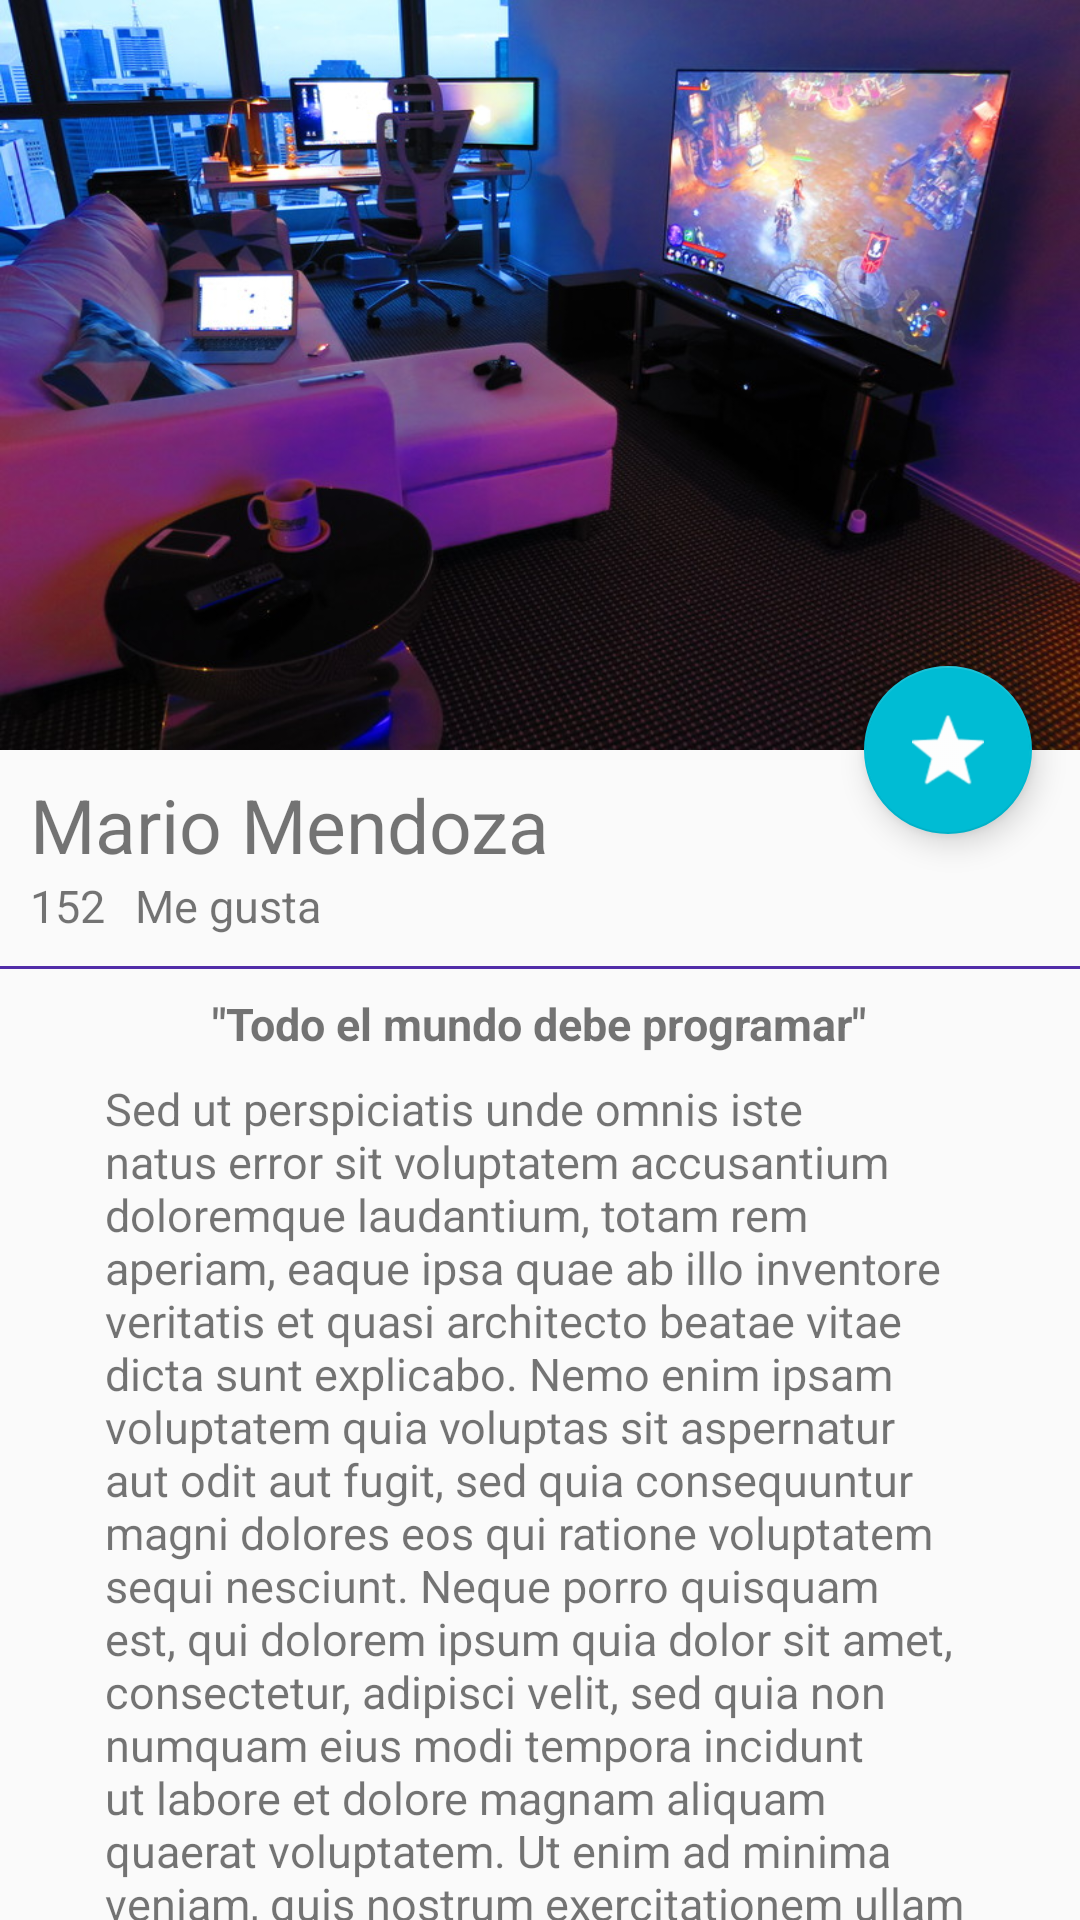

Point at icon controls on the screen. Image size 1080*1920, points as point (x, y).
star: point (948, 750)
